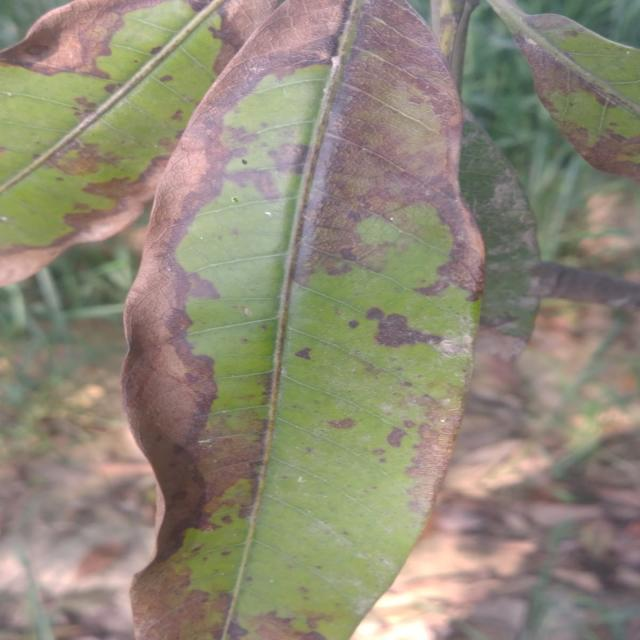Anthracnose: (150, 278, 234, 406), (306, 108, 401, 209), (234, 165, 272, 192), (375, 326, 414, 345)
black die: (299, 45, 336, 64)
